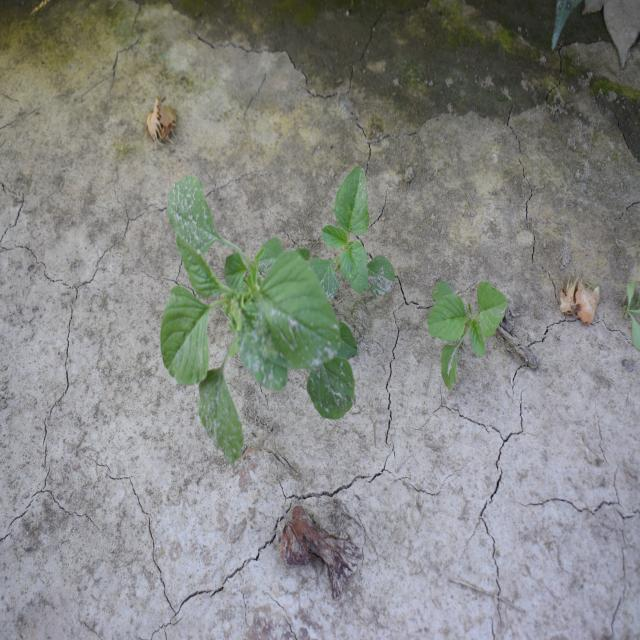PalmerAmaranth: (158, 173, 359, 466), (306, 164, 397, 306), (426, 277, 508, 394)
